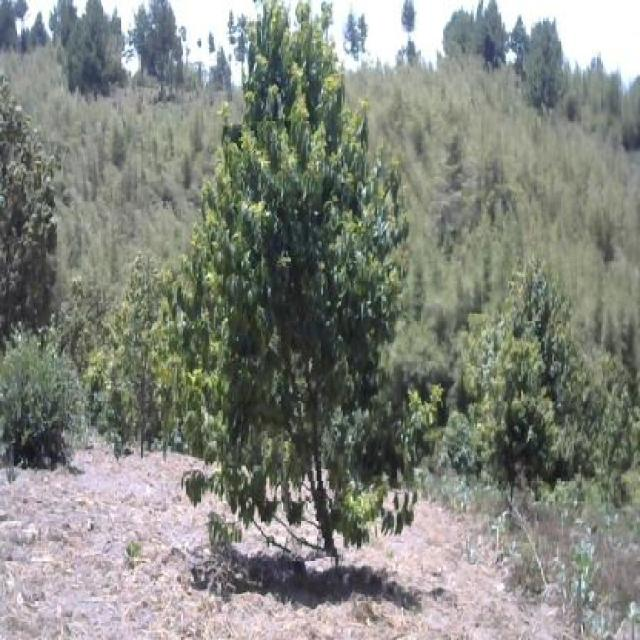tree trunk: (240, 118, 335, 560)
